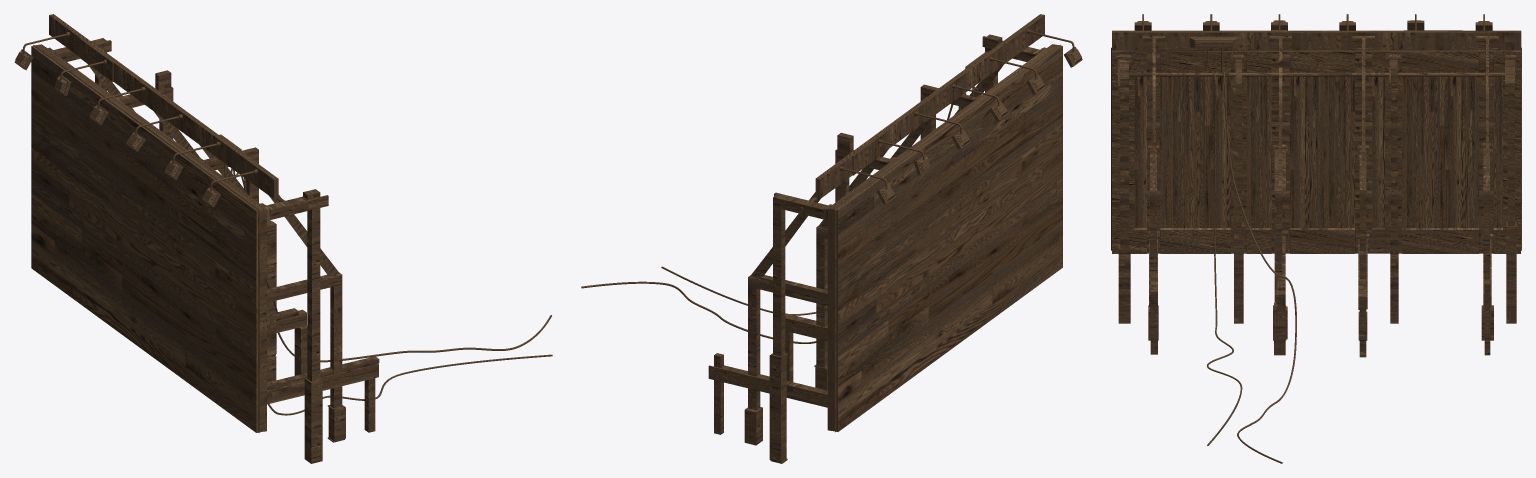
The model's file is board.obj.
3 renders of one model, left to right at view 1: azimuth 30°, elevation 25°; view 2: azimuth 150°, elevation 25°; view 3: azimuth 270°, elevation 25°, orthographic. The views are drawn at different scales.
Parts seen in each view (by area): view 1: Ecleposs_HD_bill_board:opj_for_maya:banner; view 2: Ecleposs_HD_bill_board:opj_for_maya:banner; view 3: Ecleposs_HD_bill_board:opj_for_maya:banner.
Part boxes in pixels (<box>): Ecleposs_HD_bill_board:opj_for_maya:banner: <box>14,14,552,463</box>; Ecleposs_HD_bill_board:opj_for_maya:banner: <box>581,14,1082,463</box>; Ecleposs_HD_bill_board:opj_for_maya:banner: <box>1111,14,1521,463</box>.
Bounding box in the file's own units: 33.62 × 22.51 × 31.07.
Materials: 1 (1 with a texture image).
